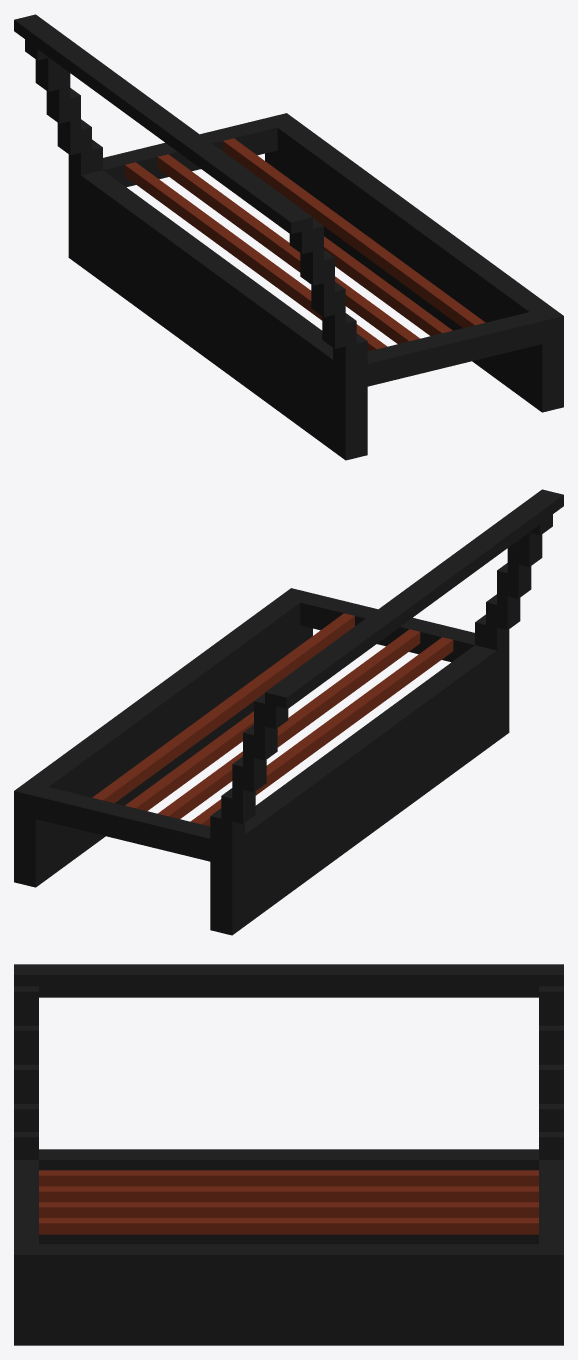
File: burnt_out_saloon_bench_frame.glb
3 renders of one model, top to bottom at view 1: azimuth 30°, elevation 25°; view 2: azimuth 150°, elevation 25°; view 3: azimuth 270°, elevation 25°, orthographic.
Visible parts, largest first — view 1: body:compound; view 2: body:compound; view 3: body:compound.
Boxes of the visible parts, x1,y1,x2,y2 form: body:compound: (14,14,563,460); body:compound: (14,489,563,935); body:compound: (14,964,563,1345).
Size of the model in its own units: 0.7812 by 0.6875 by 1.38.
